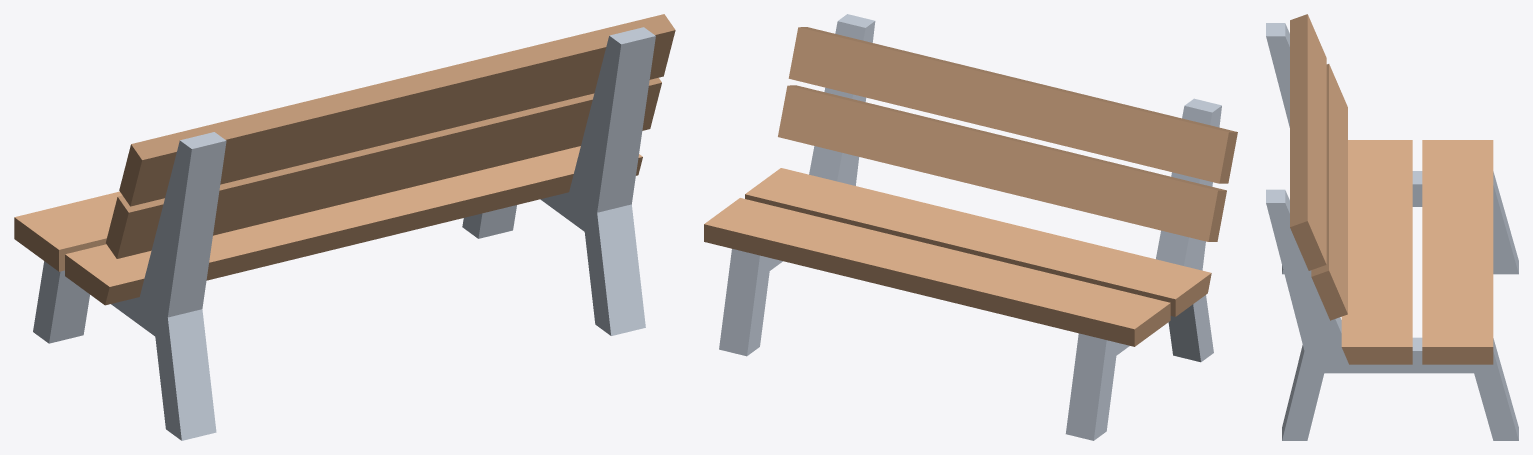
Rendered from bench.glb.
3 renders of one model, left to right at view 1: azimuth 30°, elevation 25°; view 2: azimuth 150°, elevation 25°; view 3: azimuth 270°, elevation 25°, orthographic. The views are drawn at different scales.
Parts seen in each view (by area): view 1: bench; view 2: bench; view 3: bench.
Boxes of the visible parts, x1,y1,x2,y2 form: bench: [14, 14, 675, 440]; bench: [704, 14, 1237, 440]; bench: [1266, 14, 1518, 440].
Size of the model in its own units: 0.606 by 0.3248 by 0.3129.
